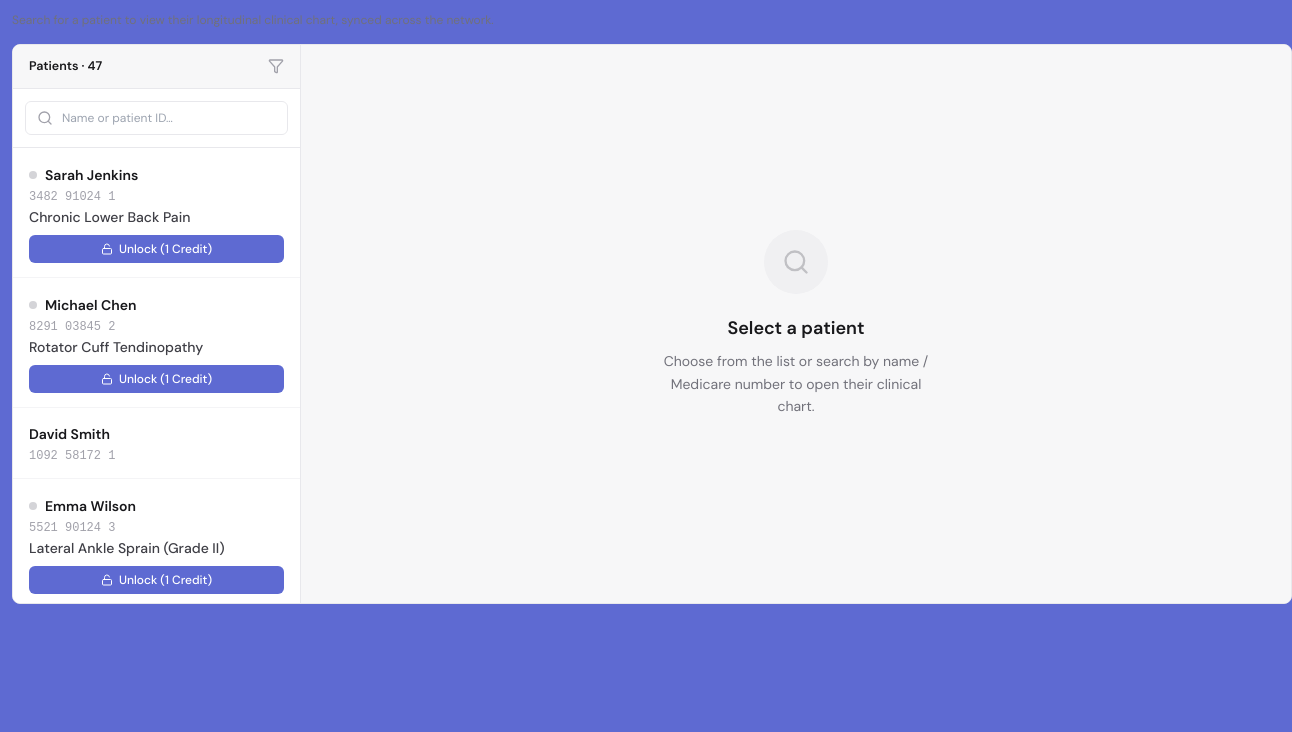
Test case: PatientSearch › shows LockedPreview content when a locked patient is selected
Click the text "Sarah Jenkins": (92, 175) 45,165 -> 138,185
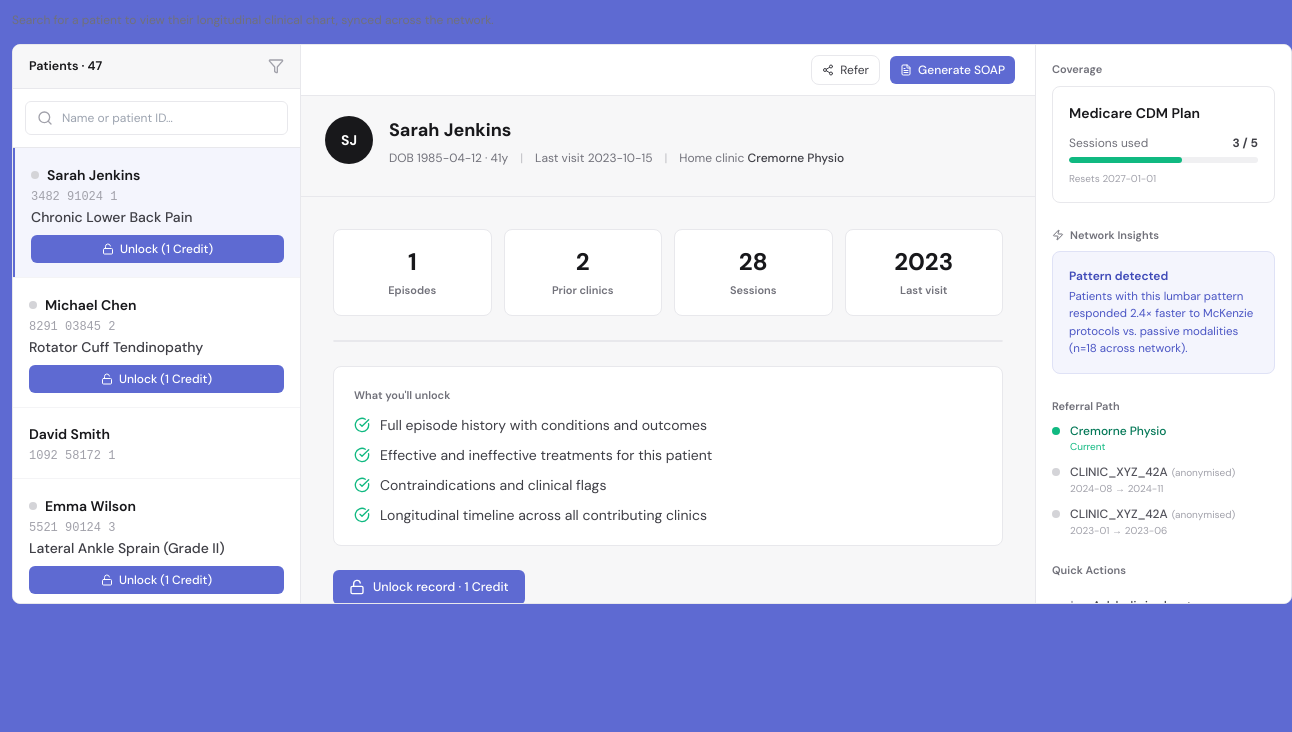
Expected: the 1st button "Unlock (1 Credit)" is shown, 31,235 -> 284,263
Expected: the button "Unlock record · 1 Credit" is shown, 333,570 -> 525,603
